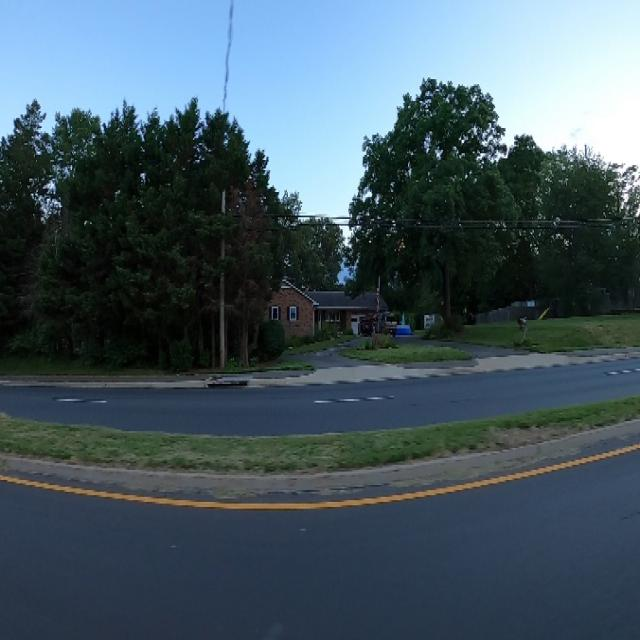cars: (377, 308, 402, 338)
